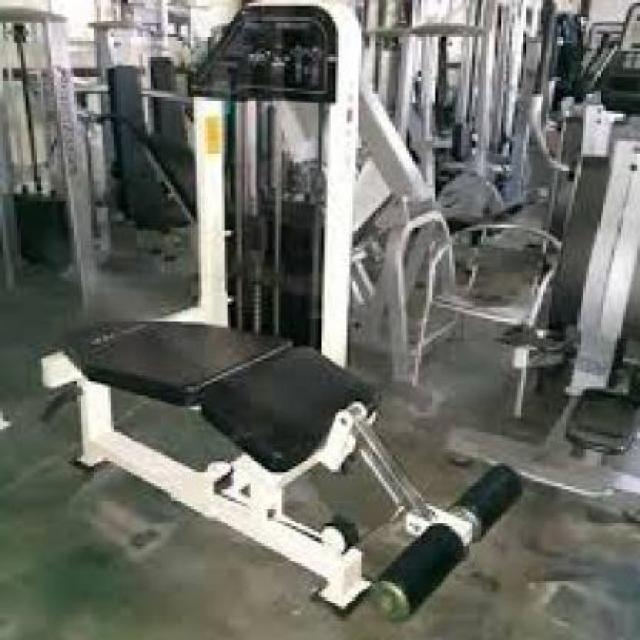reg curl machine: (32, 1, 528, 622)
